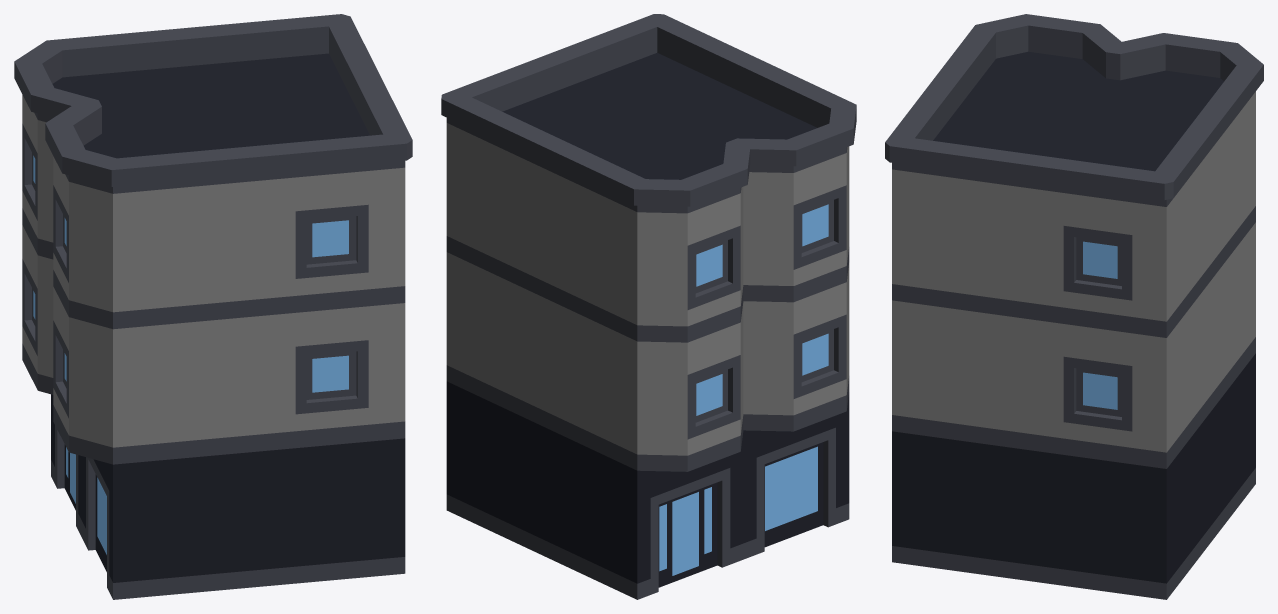
The model's file is variant_10.obj.
3 views of the same model, side by side, from view 1: azimuth 30°, elevation 25°; view 2: azimuth 150°, elevation 25°; view 3: azimuth 270°, elevation 25° (orthographic). The views are drawn at different scales.
Parts seen in each view (by area): view 1: Building; view 2: Building; view 3: Building.
Boxes of the visible parts, left/top/right/bottom form: Building: left=14, top=14, right=412, bottom=599; Building: left=441, top=14, right=856, bottom=599; Building: left=885, top=14, right=1263, bottom=599.
Size of the model in its own units: 1.11 by 1.28 by 1.05.
